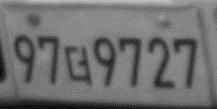2: (146, 36, 176, 89)
7: (172, 37, 199, 89), (118, 36, 143, 87), (36, 34, 60, 84)
9: (12, 34, 37, 83), (93, 36, 117, 87)
더: (63, 45, 94, 86)
